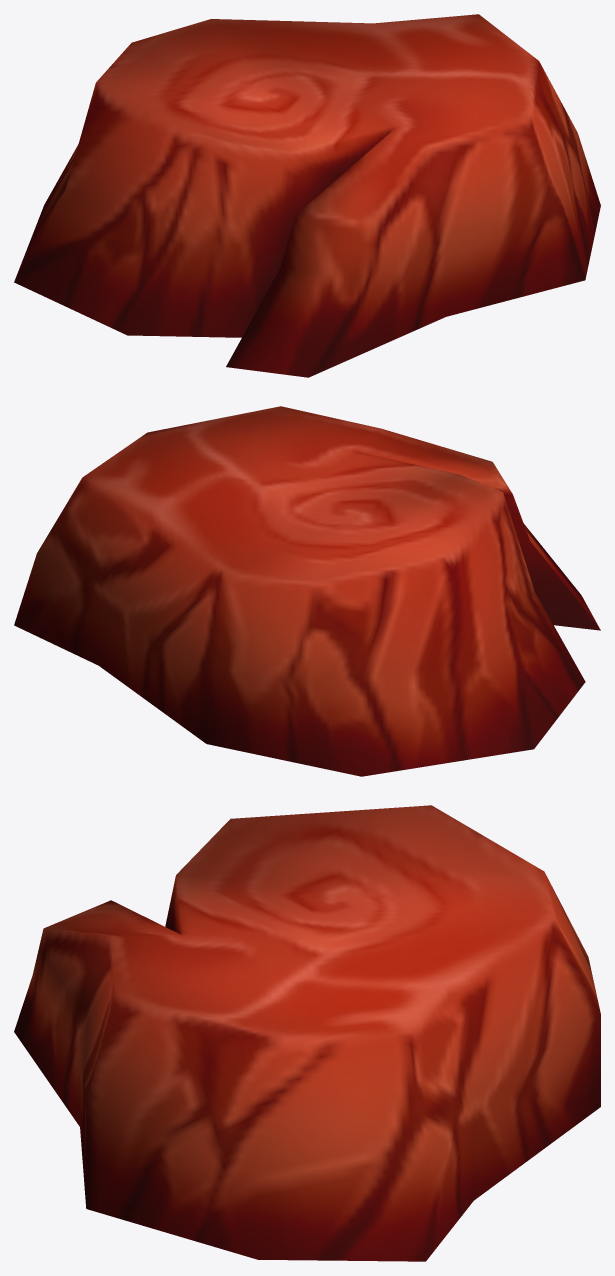
The model's file is Boulder.FBX.
The picture shows the model from 3 angles, top to bottom: view 1: azimuth 30°, elevation 25°; view 2: azimuth 150°, elevation 25°; view 3: azimuth 270°, elevation 25°; orthographic projection. The views are drawn at different scales.
Parts seen in each view (by area): view 1: Boulder; view 2: Boulder; view 3: Boulder.
Part boxes in pixels (x1,y1,x2,y2): Boulder: (14,14,600,377); Boulder: (14,406,600,776); Boulder: (14,805,600,1261).
Bounding box in the file's own units: 148 × 47.23 × 122.
